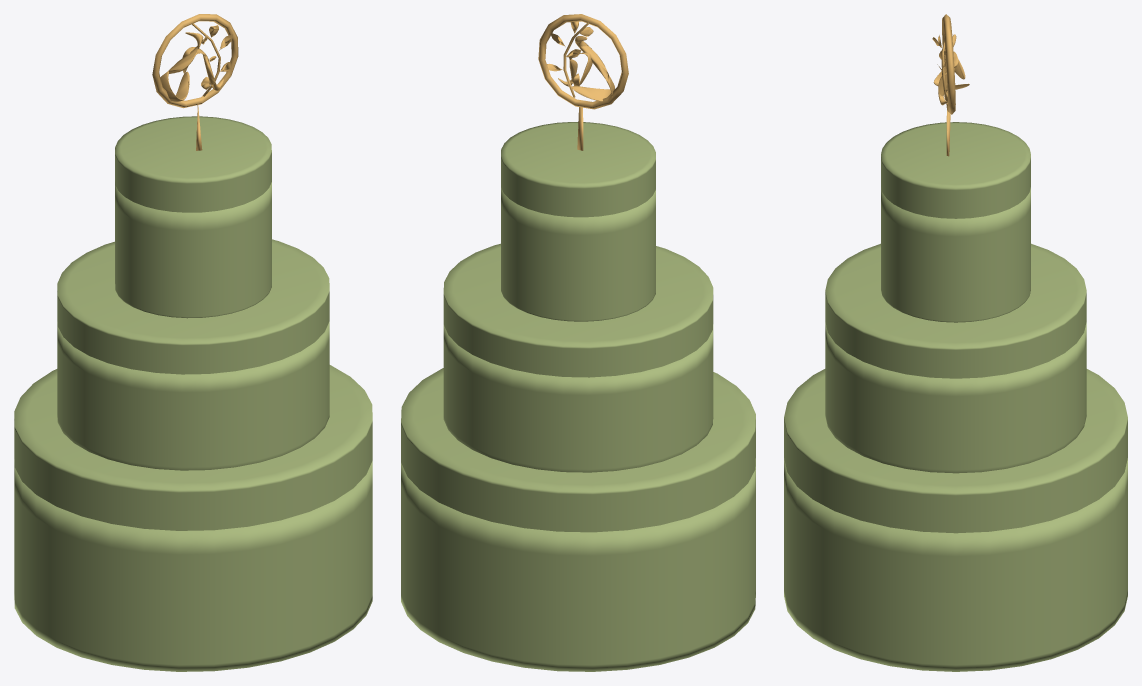
File: 3-tier-pistage-none-ring.glb
3 renders of one model, left to right at view 1: azimuth 30°, elevation 25°; view 2: azimuth 150°, elevation 25°; view 3: azimuth 270°, elevation 25°, orthographic.
Visible parts, largest first — view 1: Cylinder.022, Cylinder.014, Cylinder.021, Cylinder.020; view 2: Cylinder.022, Cylinder.014, Cylinder.021, Cylinder.020; view 3: Cylinder.022, Cylinder.014, Cylinder.021, Cylinder.020.
Boxes of the visible parts, x1,y1,x2,y2 form: Cylinder.022: (14,365,372,671); Cylinder.014: (57,239,329,470); Cylinder.021: (115,116,271,318); Cylinder.020: (152,14,238,150); Cylinder.022: (401,368,755,671); Cylinder.014: (443,243,713,472); Cylinder.021: (501,122,655,321); Cylinder.020: (538,14,628,150); Cylinder.022: (784,369,1127,671); Cylinder.014: (825,243,1086,473); Cylinder.021: (881,122,1030,322); Cylinder.020: (932,14,969,156).
Size of the model in its own units: 4.22 by 7.52 by 4.06.
